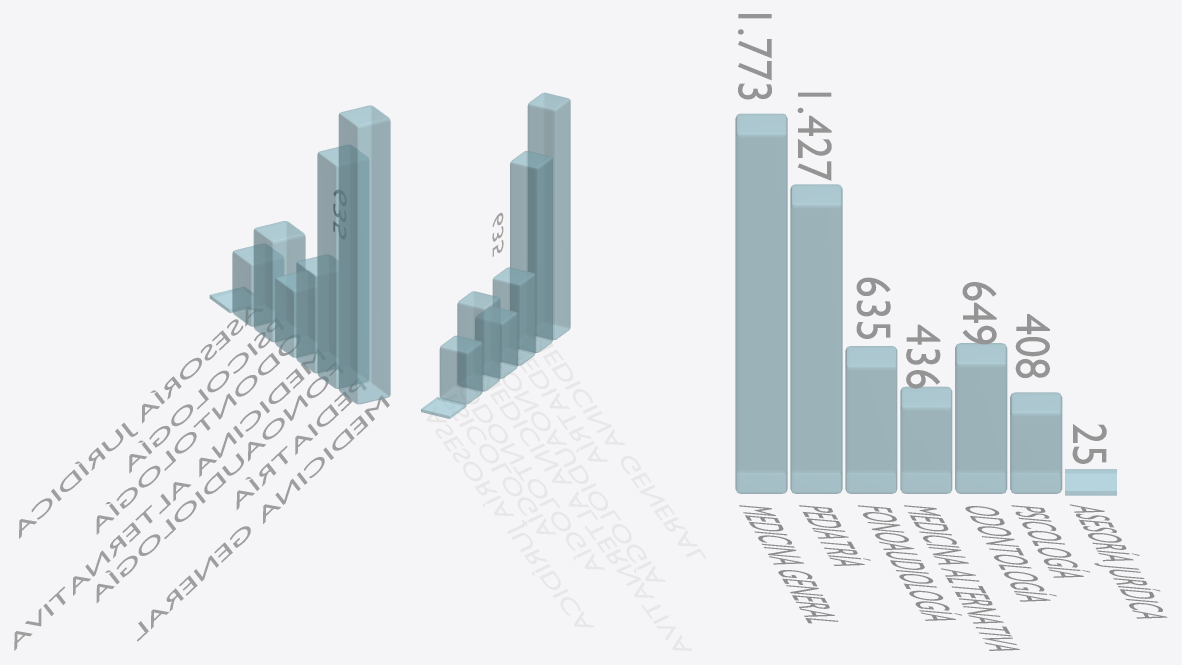
File: Graficos_1.glb
The picture shows the model from 3 angles, left to right: view 1: azimuth 30°, elevation 25°; view 2: azimuth 150°, elevation 25°; view 3: azimuth 270°, elevation 25°; orthographic projection. The views are drawn at different scales.
Visible parts, largest first — view 1: pCube1, pCube2, pCube5, pCube3, pCube6, pCube4, Text.003, Text, Text.006, Text.002, Text.004, Text.005 (+2 smaller); view 2: pCube1, pCube2, pCube5, pCube3, pCube6, pCube4, Text.003, Text.006, Text, Text.002, Text.004, Text.005 (+2 smaller); view 3: pCube1, pCube2, pCube5, pCube3, pCube4, pCube6, Text.003, Text, Text.006, Text.002, Text.004, pCube7 (+8 smaller).
Boxes of the visible parts, box(x1,y1,x2,y2) form: pCube1: box(338, 105, 390, 404); pCube2: box(317, 145, 368, 388); pCube5: box(253, 221, 305, 342); pCube3: box(296, 254, 338, 373); pCube6: box(232, 244, 283, 326); pCube4: box(275, 270, 316, 357); Text.003: box(14, 352, 317, 650); Text: box(137, 395, 389, 641); Text.006: box(19, 308, 253, 538); Text.002: box(96, 368, 338, 603); Text.004: box(96, 337, 296, 534); Text.005: box(129, 321, 274, 473); pCube1: box(527, 92, 570, 339); pCube2: box(510, 151, 552, 352); pCube5: box(457, 291, 500, 391); pCube3: box(492, 267, 535, 365); pCube6: box(439, 335, 482, 404); pCube4: box(475, 306, 517, 378); Text.003: box(482, 374, 692, 650); Text.006: box(426, 406, 593, 627); Text: box(535, 336, 706, 558); Text.002: box(500, 361, 665, 581); Text.004: box(460, 386, 604, 569); Text.005: box(442, 394, 556, 534); pCube1: box(735, 113, 787, 493); pCube2: box(790, 184, 842, 493); pCube5: box(955, 343, 1007, 493); pCube3: box(845, 346, 897, 493); pCube4: box(900, 386, 952, 493); pCube6: box(1010, 392, 1062, 493); Text.003: box(904, 505, 1019, 650); Text: box(739, 505, 838, 623); Text.006: box(1070, 504, 1167, 618); Text.002: box(858, 505, 961, 620); Text.004: box(965, 506, 1056, 601); pCube7: box(1065, 469, 1116, 495).
Size of the model in its own units: 3.58 by 7.61 by 3.66.
